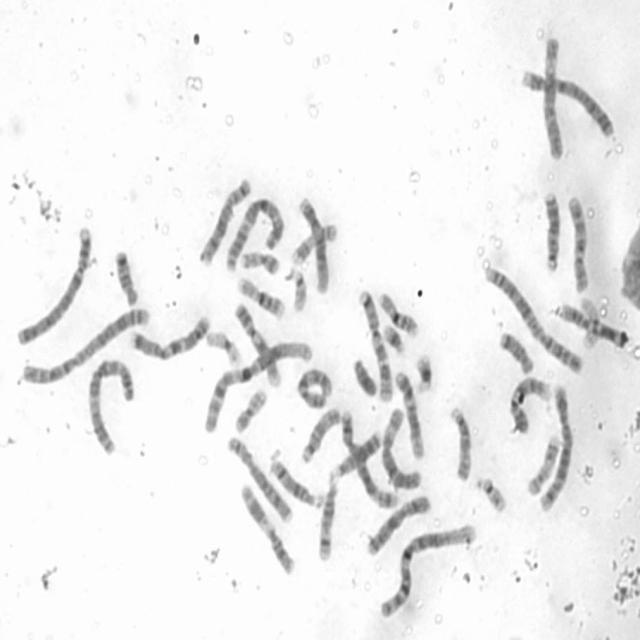A1: (202, 339, 314, 434), (380, 520, 476, 622)
A2: (482, 264, 586, 377), (20, 305, 152, 387)
A3: (86, 359, 136, 457), (224, 197, 286, 272)
B4: (13, 224, 92, 348), (520, 69, 616, 139)
B5: (340, 408, 400, 511), (538, 381, 574, 514)
C10: (566, 194, 591, 297), (295, 368, 333, 410)
C11: (239, 484, 297, 577), (559, 302, 626, 351)
C12: (297, 195, 331, 296), (393, 370, 427, 462)
C6: (379, 405, 423, 491), (541, 35, 566, 163)
C7: (356, 288, 395, 405), (129, 311, 212, 363)
C8: (226, 436, 294, 524), (195, 178, 252, 266)
C9: (233, 302, 282, 390), (508, 374, 552, 436)
D13: (326, 427, 382, 483), (541, 189, 563, 274)
D14: (270, 461, 324, 509), (315, 479, 340, 564)
D15: (300, 406, 342, 466), (450, 404, 474, 485)
E16: (235, 274, 287, 320), (376, 292, 420, 340)
E17: (527, 432, 563, 498), (288, 224, 338, 268)
E18: (498, 331, 536, 375), (113, 250, 140, 310)
F19: (204, 328, 244, 369), (578, 294, 601, 352)
F20: (233, 386, 268, 435), (239, 250, 281, 276)
G21: (411, 352, 433, 398), (380, 322, 406, 358)
G22: (284, 266, 310, 315), (475, 476, 507, 515)
X: (365, 494, 432, 556)
Y: (353, 357, 379, 398)
